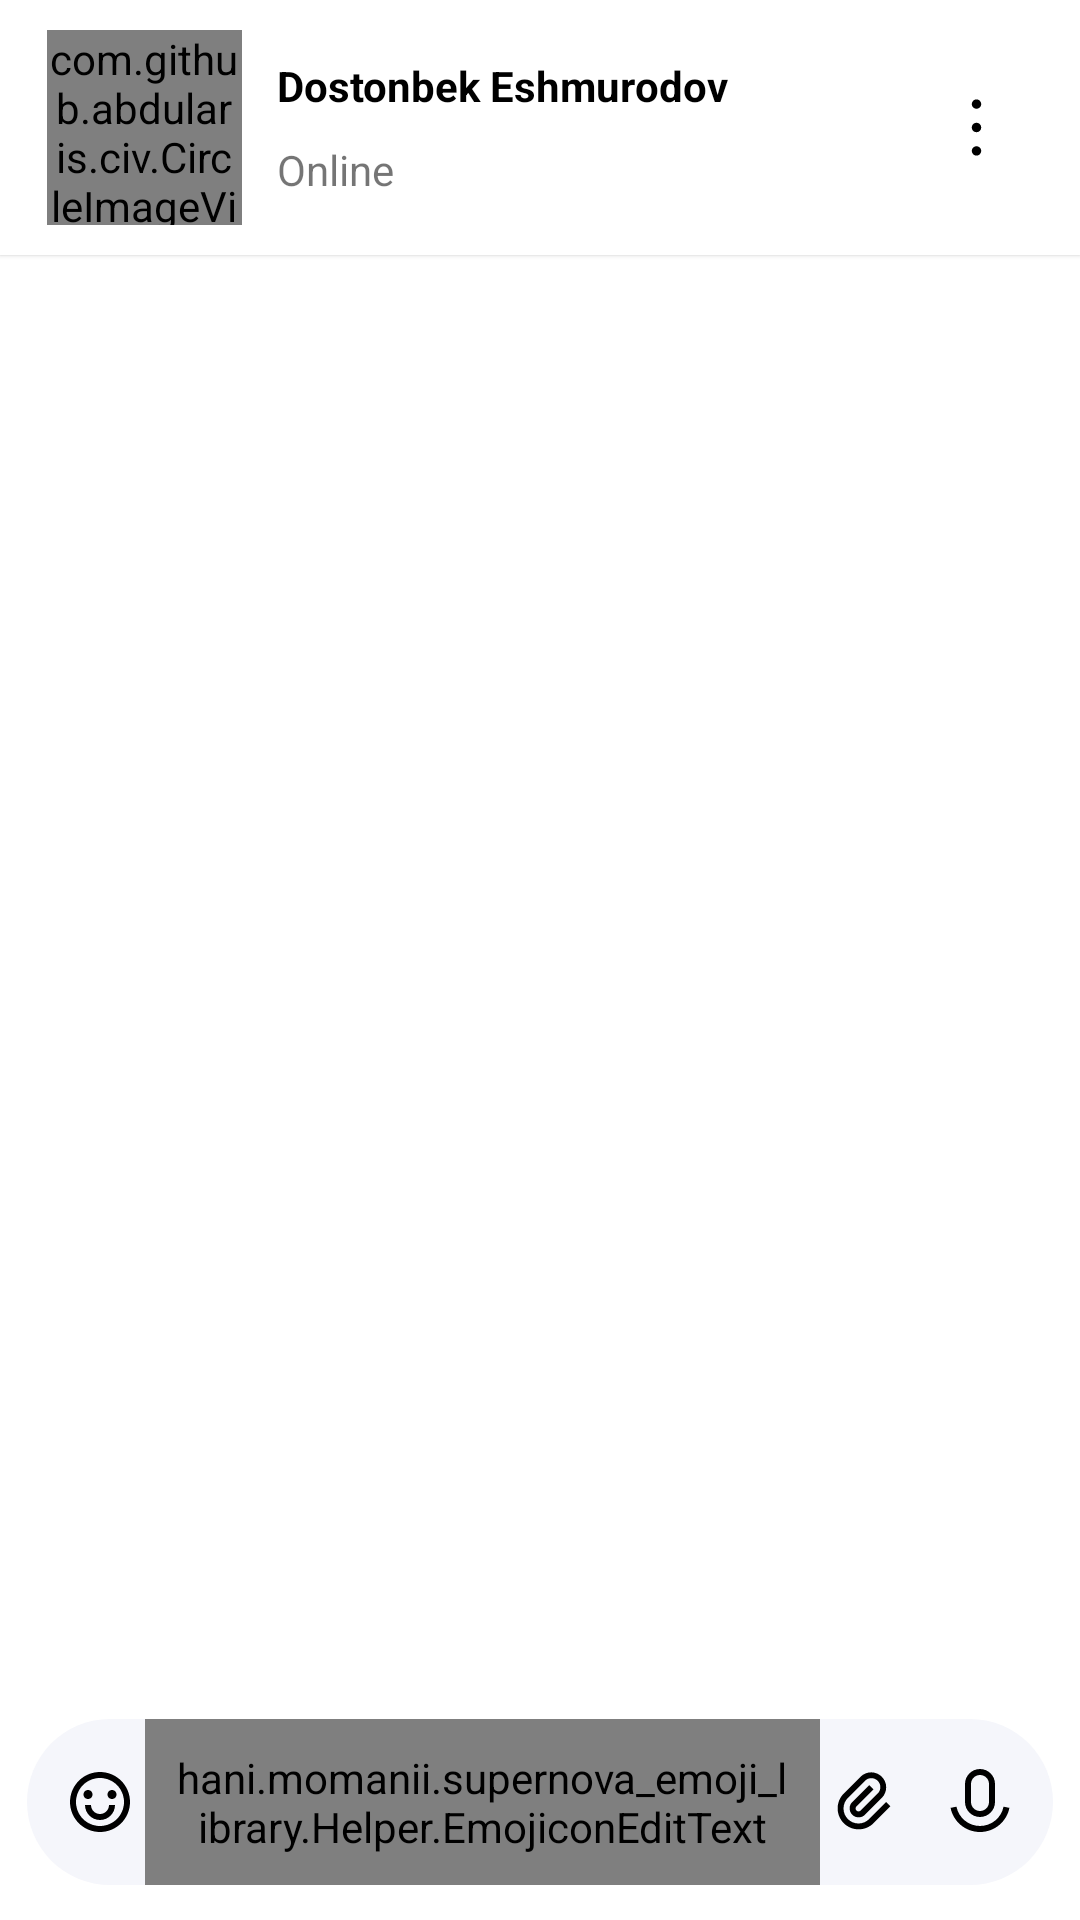

Icon bounding boxes for this 1080x1920 phone screenshot, format (x1, y1, x2, y2):
smilik: (70, 1772, 130, 1832)
